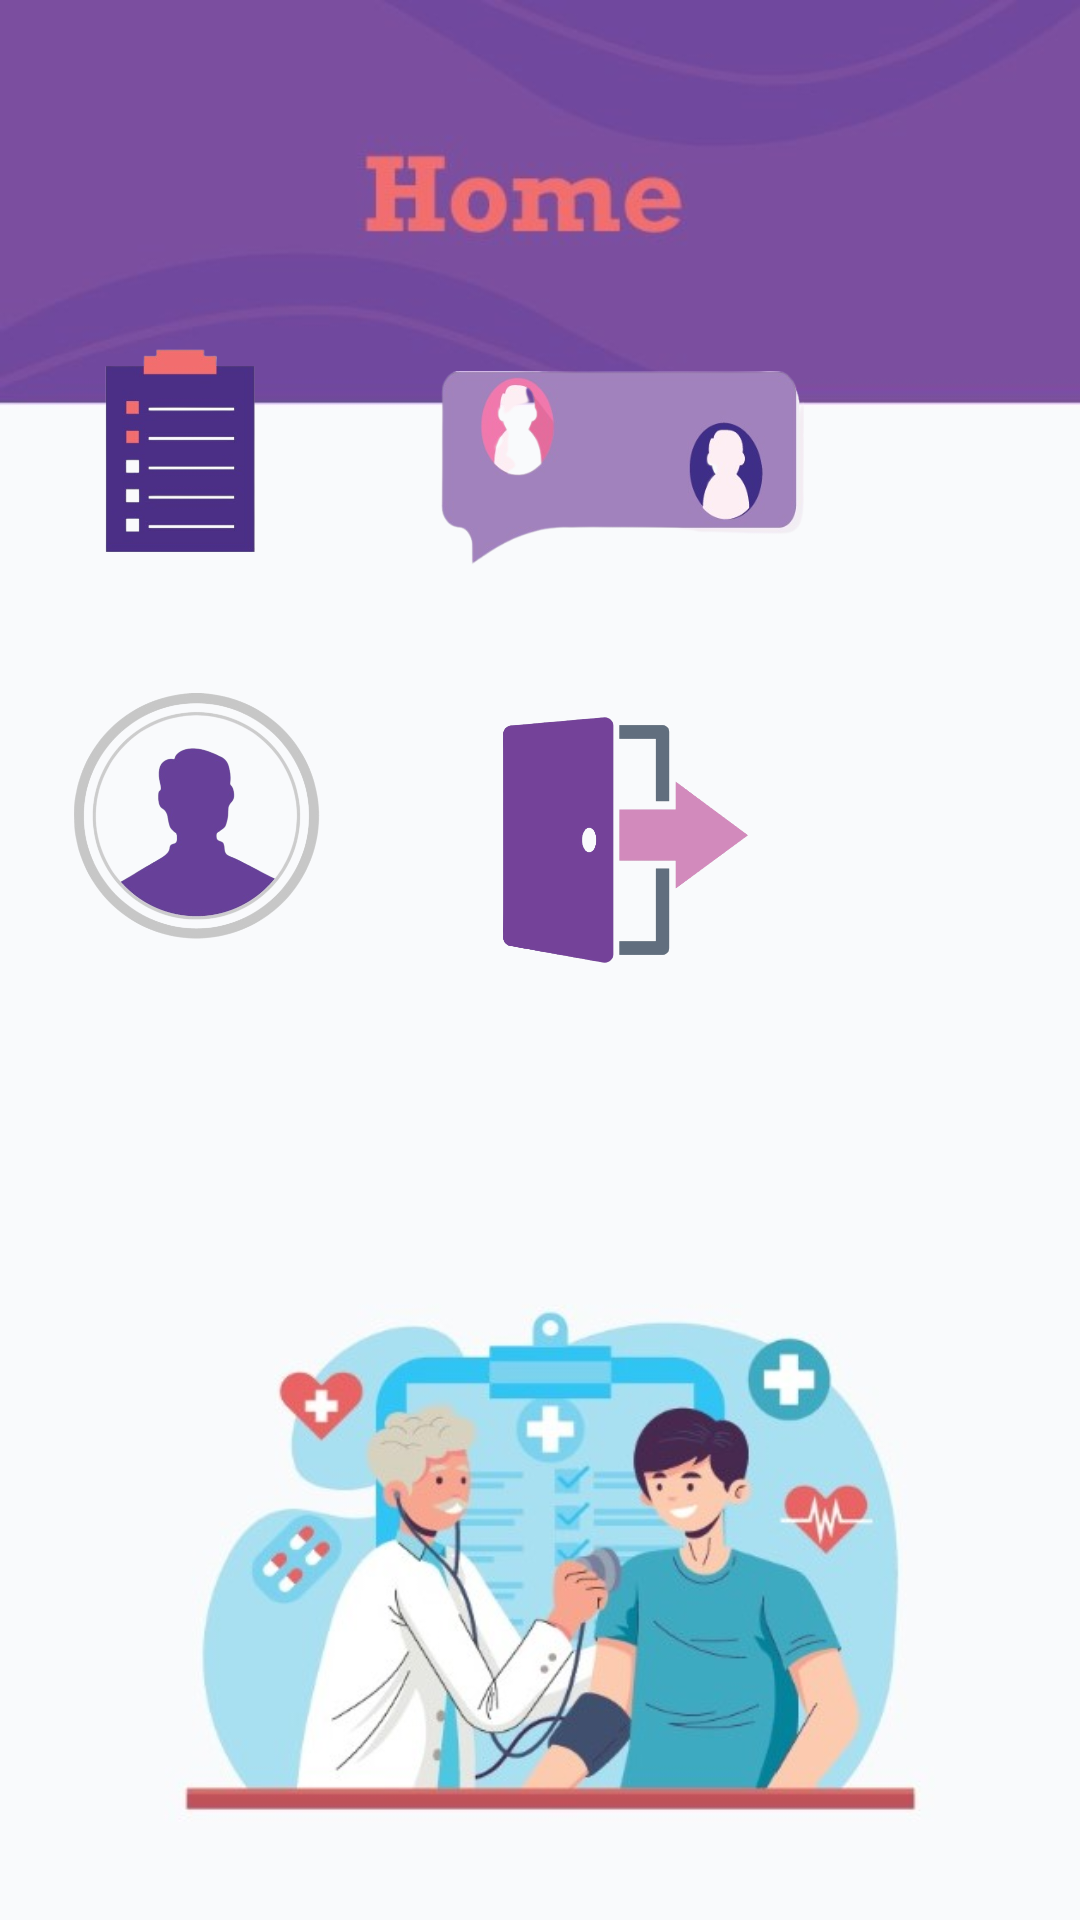

Screen size 1080 × 1920. Icon name, then its center in pixels as [x,y]:
appointments list: [180,456]
profile: [196,816]
signout: [625,840]
